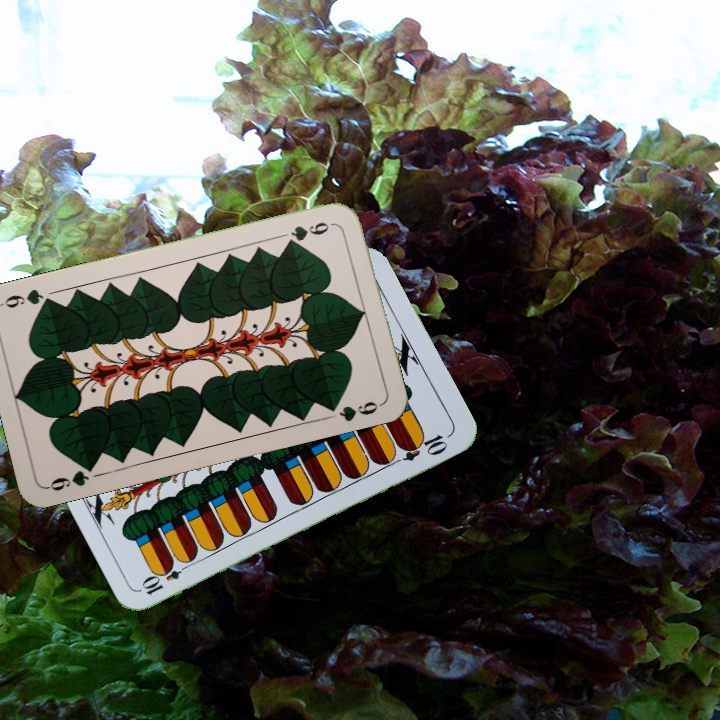E10: (138, 557, 194, 598)
G9: (43, 459, 99, 494), (282, 218, 338, 247)
